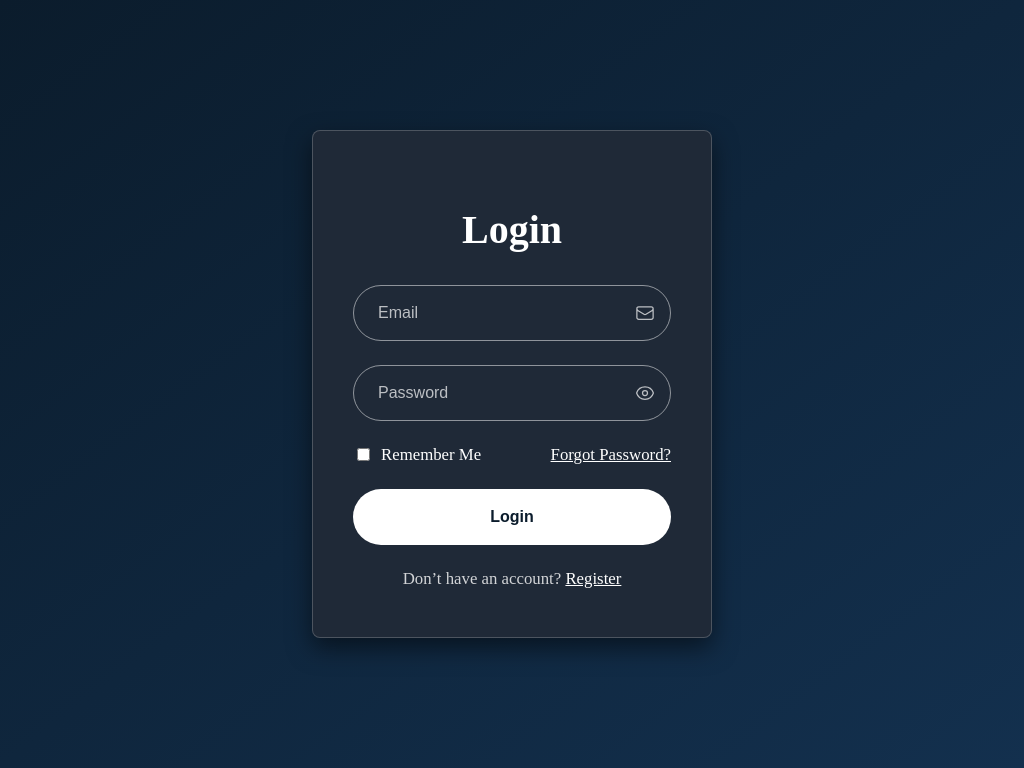
Test: LoginPage › displays generic error message when API error has no response data
Type "test@example.com" into the field with placeholder "Email" at (512, 313), box [353,285,671,341]
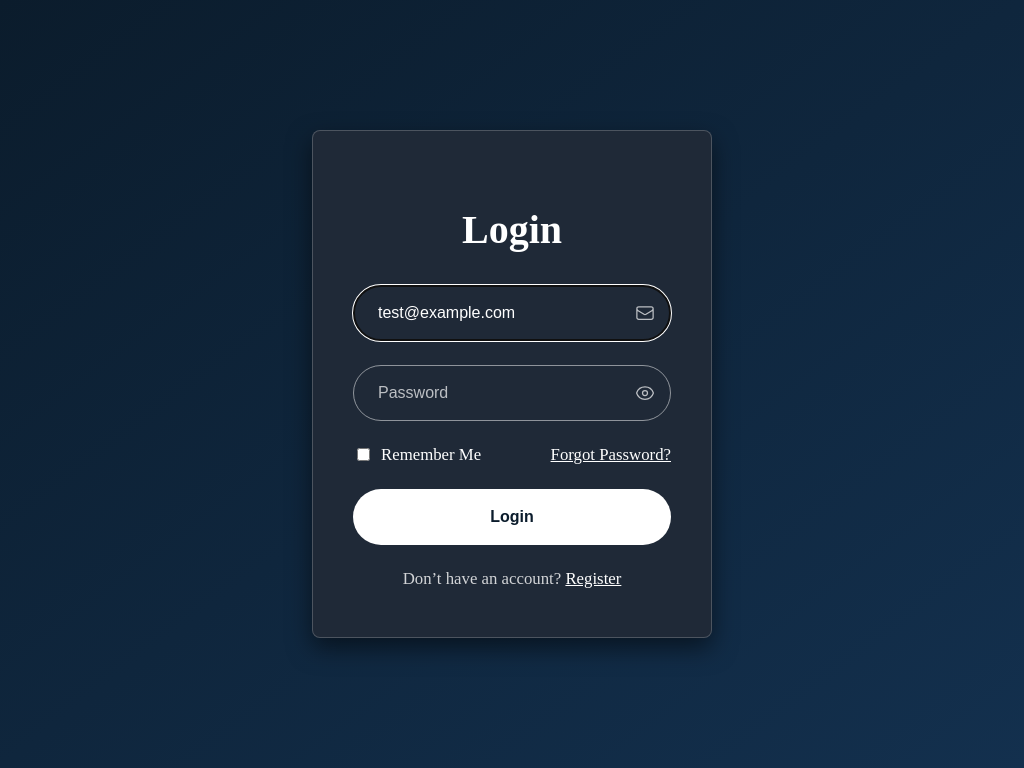
Type "password123" into the password field with placeholder "Password" at (512, 393), box [353,365,671,421]
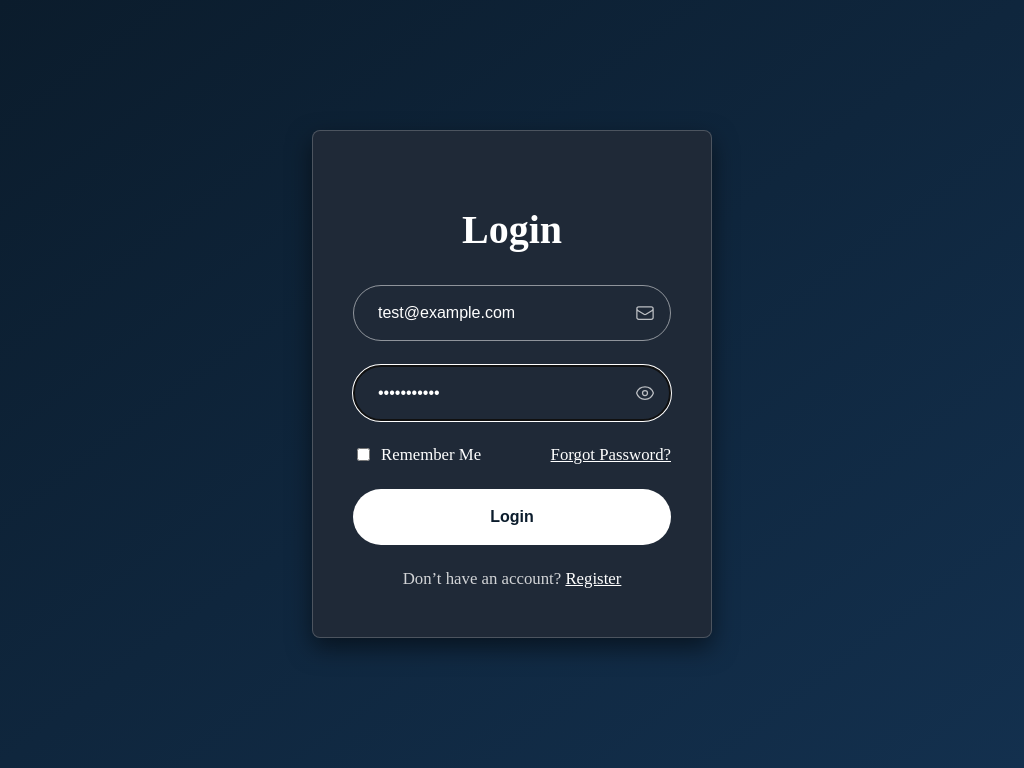
Click the button "Login" at (512, 517), box [353,489,671,545]
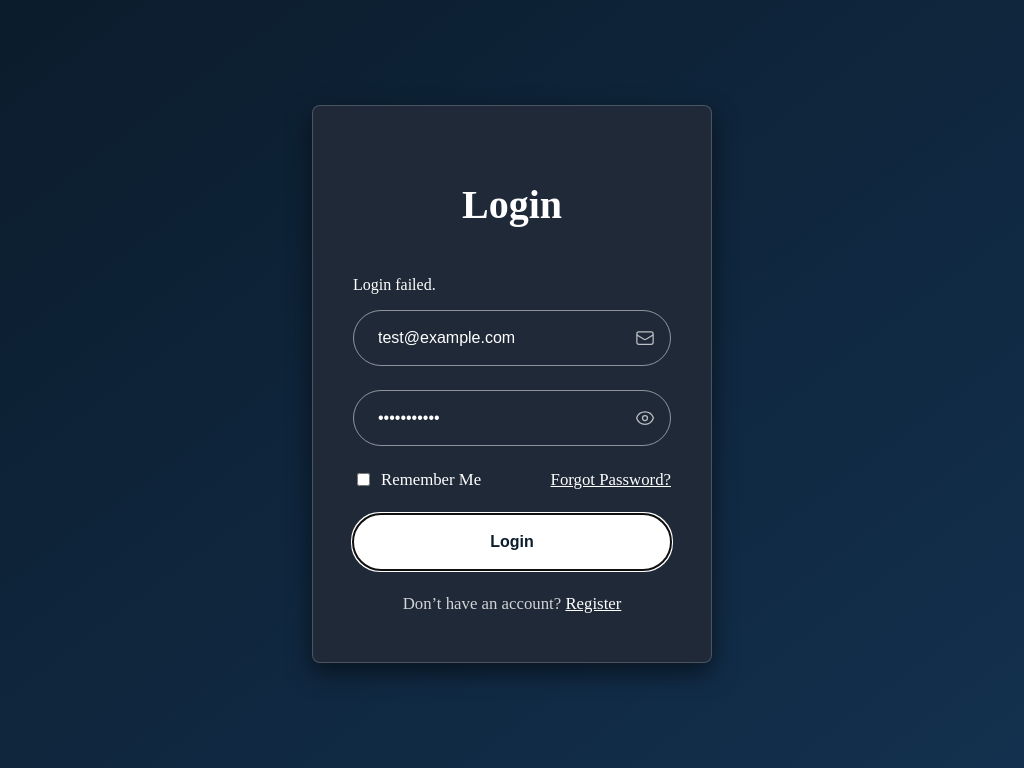
Check: the text "Login failed." is shown, box [353,276,436,293]
